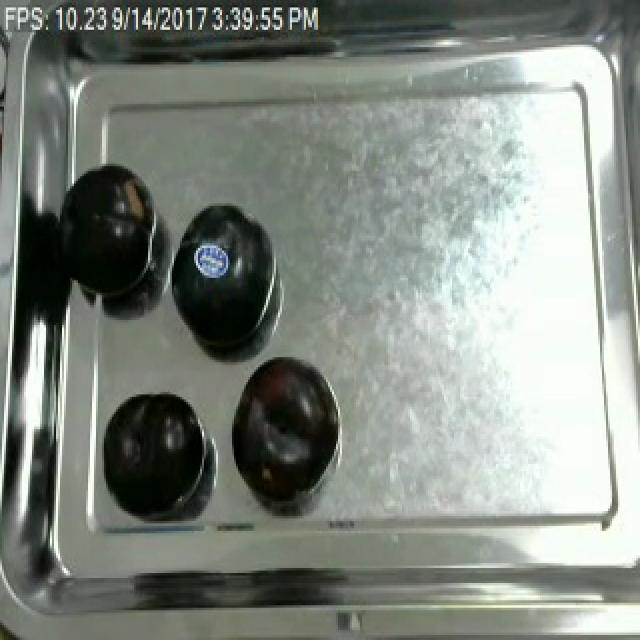Fruit: (164, 188, 280, 360), (52, 156, 164, 310), (226, 347, 338, 499), (100, 384, 208, 518)
